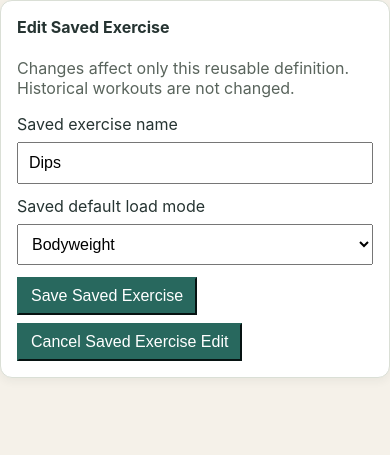
it: shows collisions or persistence failures and remains open
Step 1. Replace the text in the field labelled "Saved exercise name" with "Retry exercise" → (195, 163), box x1=17 y1=142 x2=373 y2=184
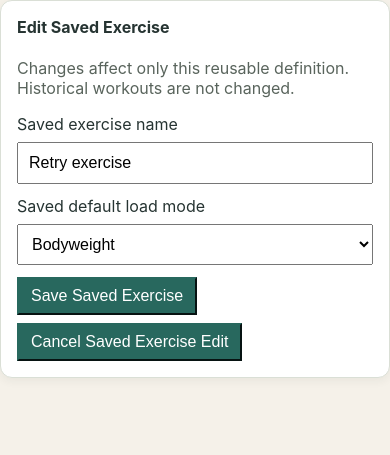
Step 2. Click the button "Save Saved Exercise" → (107, 296), box x1=17 y1=277 x2=197 y2=315
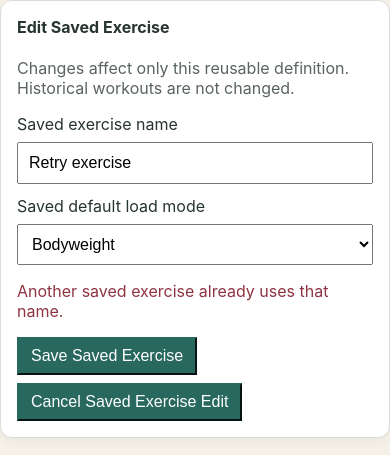
Expected: the message reads "Another saved exercise already uses that name.", x1=17 y1=281 x2=328 y2=321
